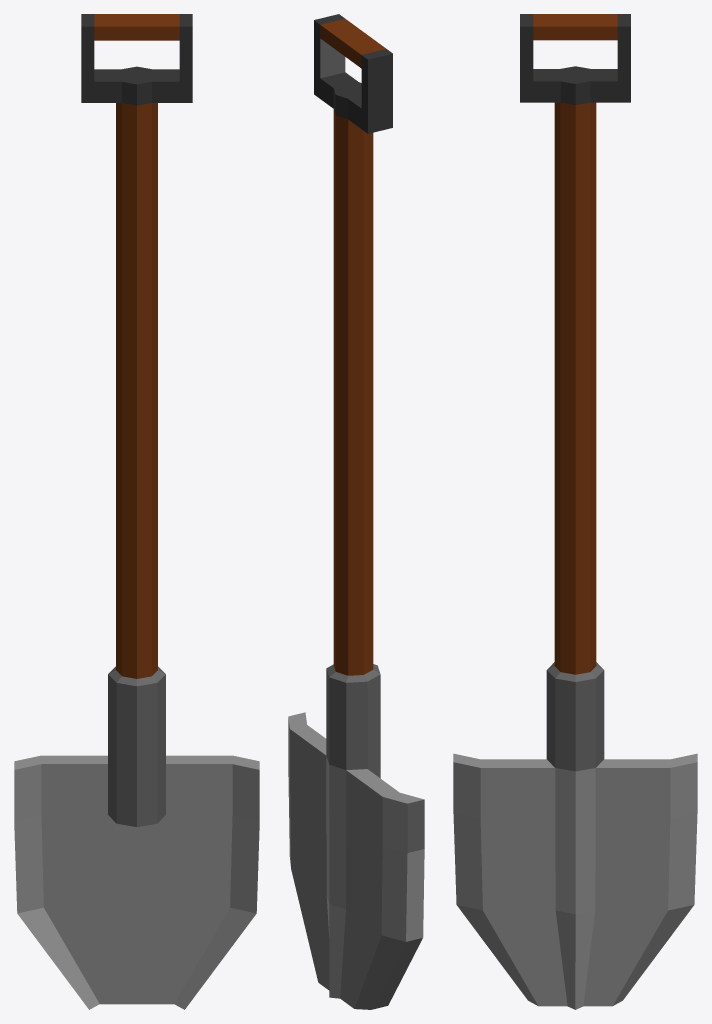
The model's file is schep.fbx.
The picture shows the model from 3 angles, left to right: view 1: azimuth 90°, elevation 25°; view 2: azimuth 210°, elevation 25°; view 3: azimuth 270°, elevation 25°; orthographic projection. The views are drawn at different scales.
Visible parts, largest first — view 1: pCylinder50; view 2: pCylinder50; view 3: pCylinder50.
Boxes of the visible parts, x1,y1,x2,y2 form: pCylinder50: (14,14,259,1009); pCylinder50: (288,14,424,1009); pCylinder50: (453,14,697,1009).
Size of the model in its own units: 1.02 by 19.24 by 4.35.
1 material, 1 textured.
